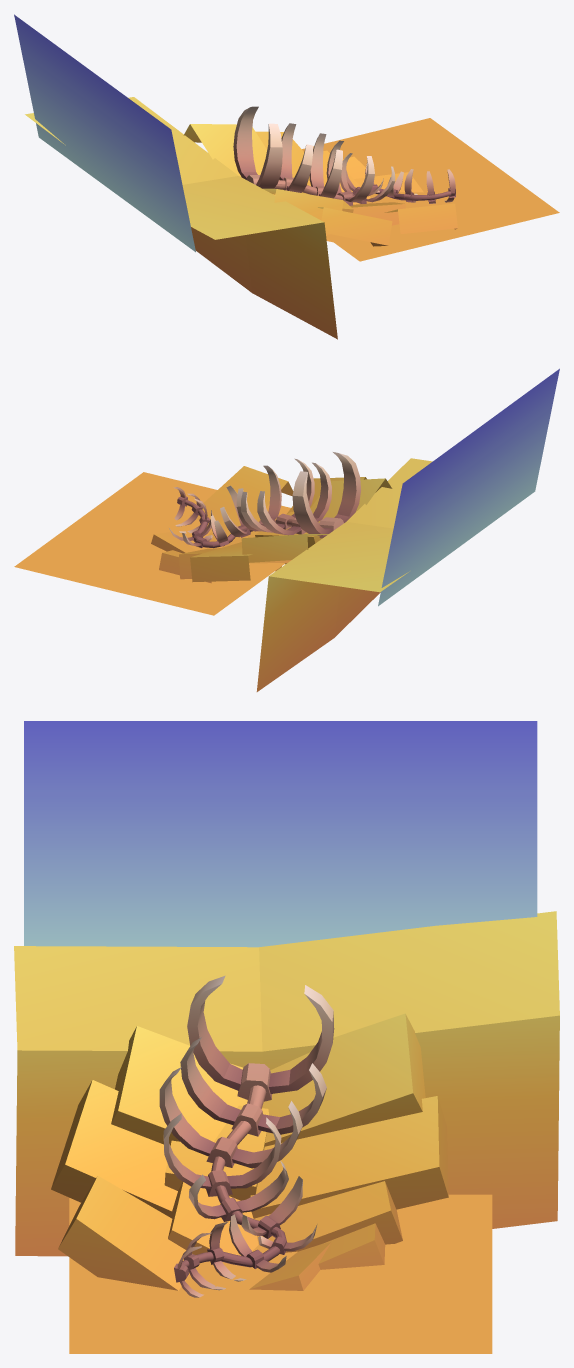
Rendered from lev_8.fbx.
3 views of the same model, one above another, from view 1: azimuth 30°, elevation 25°; view 2: azimuth 150°, elevation 25°; view 3: azimuth 270°, elevation 25° (orthographic). The views are drawn at different scales.
Parts seen in each view (by area): view 1: lev_gra_9; view 2: lev_gra_9; view 3: lev_gra_9.
Boxes of the visible parts, x1,y1,x2,y2 form: lev_gra_9: [14, 14, 559, 339]; lev_gra_9: [14, 368, 559, 691]; lev_gra_9: [14, 721, 559, 1353].
Bounding box in the file's own units: 7896 × 4762 × 5689.
